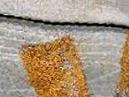rust: (16, 40, 93, 96), (113, 38, 129, 96)
